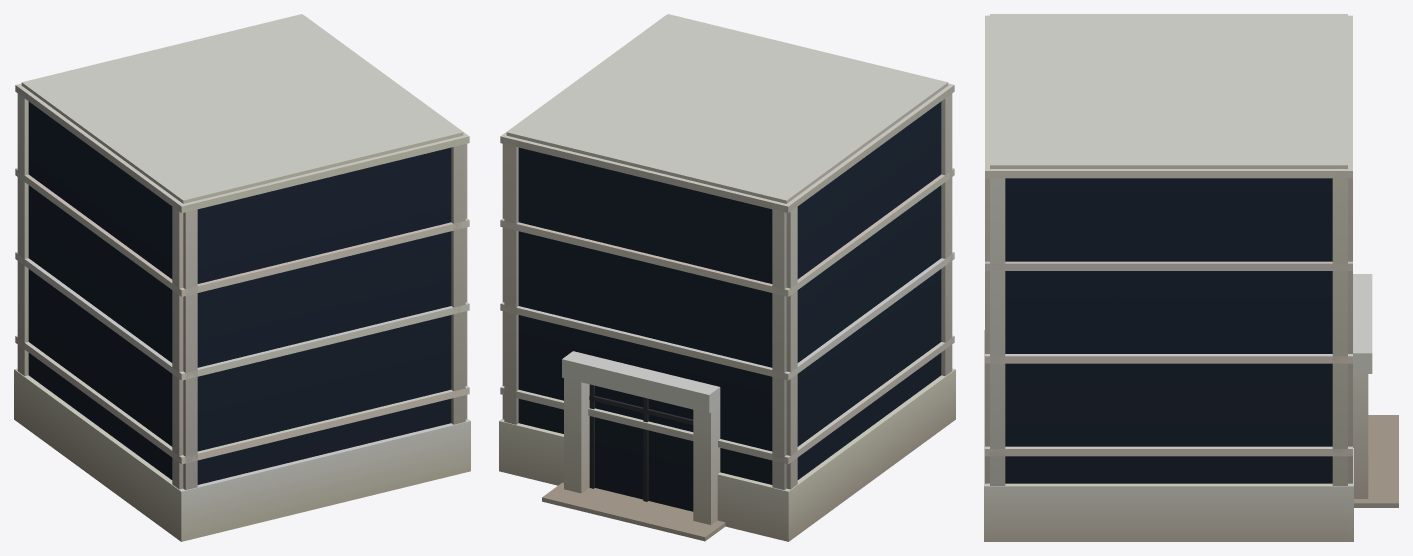
Rendered from uae-tower-podium.glb.
The picture shows the model from 3 angles, left to right: view 1: azimuth 30°, elevation 25°; view 2: azimuth 150°, elevation 25°; view 3: azimuth 270°, elevation 25°; orthographic projection. The views are drawn at different scales.
Parts seen in each view (by area): view 1: uae-tower-podium; view 2: uae-tower-podium; view 3: uae-tower-podium.
Part boxes in pixels (x1=…): uae-tower-podium: x1=14, y1=14, x2=470, y2=541; uae-tower-podium: x1=499, y1=14, x2=955, y2=541; uae-tower-podium: x1=984, y1=14, x2=1398, y2=541.
Size of the model in its own units: 3.62 by 4.04 by 4.06.
